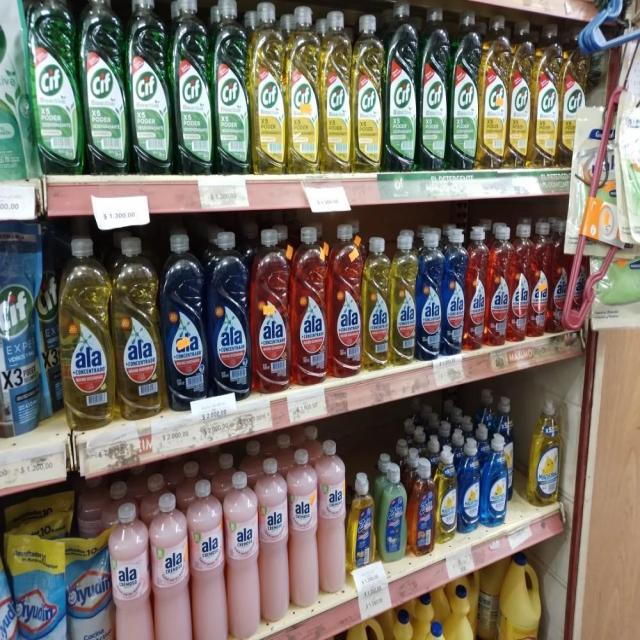ala_conc_amarillo: (59, 236, 112, 429), (114, 234, 162, 420), (363, 235, 390, 371), (391, 230, 416, 366)
ala_conc_azul: (164, 230, 207, 407), (208, 230, 250, 400), (417, 229, 442, 361), (443, 227, 465, 357)
ala_conc_rojo: (251, 226, 290, 394), (292, 223, 328, 386), (329, 222, 362, 378), (487, 223, 510, 348), (466, 225, 486, 352), (530, 220, 550, 338), (511, 222, 530, 343), (551, 222, 568, 334)
ala_crem_rosado: (225, 470, 258, 640), (151, 491, 188, 640), (190, 478, 224, 640), (112, 501, 150, 640), (259, 456, 288, 626), (289, 446, 317, 610), (318, 439, 346, 598)
cif_conc_bot_amarilla: (251, 1, 285, 176), (287, 3, 320, 175), (352, 12, 383, 174), (322, 8, 352, 175), (480, 15, 508, 170), (533, 21, 560, 170), (509, 18, 532, 169), (561, 35, 583, 168)
cif_conc_botella_verde: (30, 0, 79, 177), (81, 0, 126, 176), (128, 0, 170, 176), (172, 0, 212, 177), (213, 0, 250, 176), (385, 2, 418, 174), (419, 6, 449, 172), (451, 10, 478, 172)
magistral_con_amarillo: (528, 398, 562, 506), (436, 444, 457, 544)
magistral_con_azul: (482, 433, 508, 527), (458, 438, 481, 534)
zorro: (378, 462, 406, 562), (409, 456, 434, 557)
